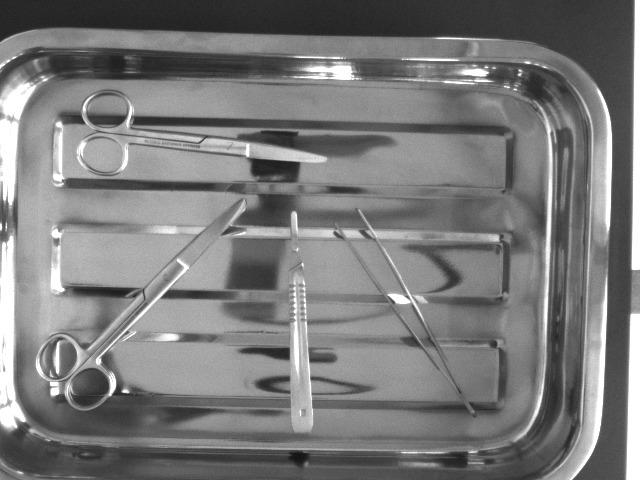scissors: (62, 77, 363, 197)
